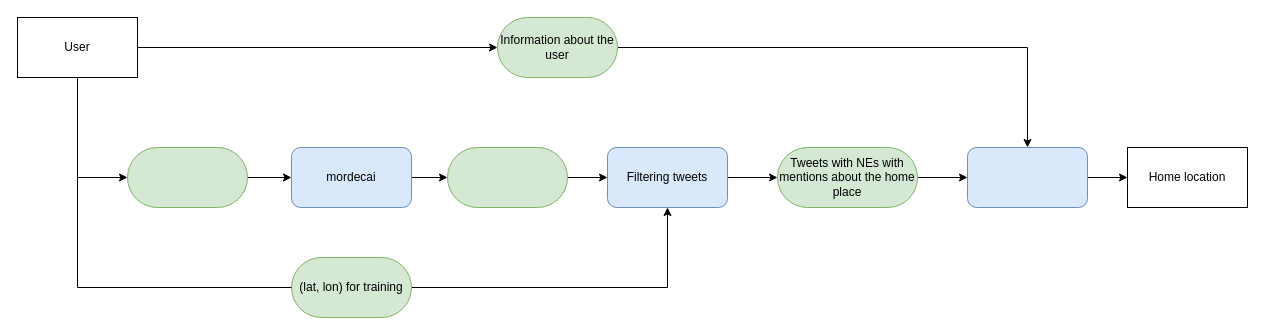
Image size: 1265x335. Some labels were removed from this diagram. The box of each missing label's shape, as (x1, y1, x2, y2) in pixels:
Home place localization: (966, 146, 1088, 208)
Tweets: (126, 146, 248, 208)
tweets with NEs: (446, 146, 568, 208)
